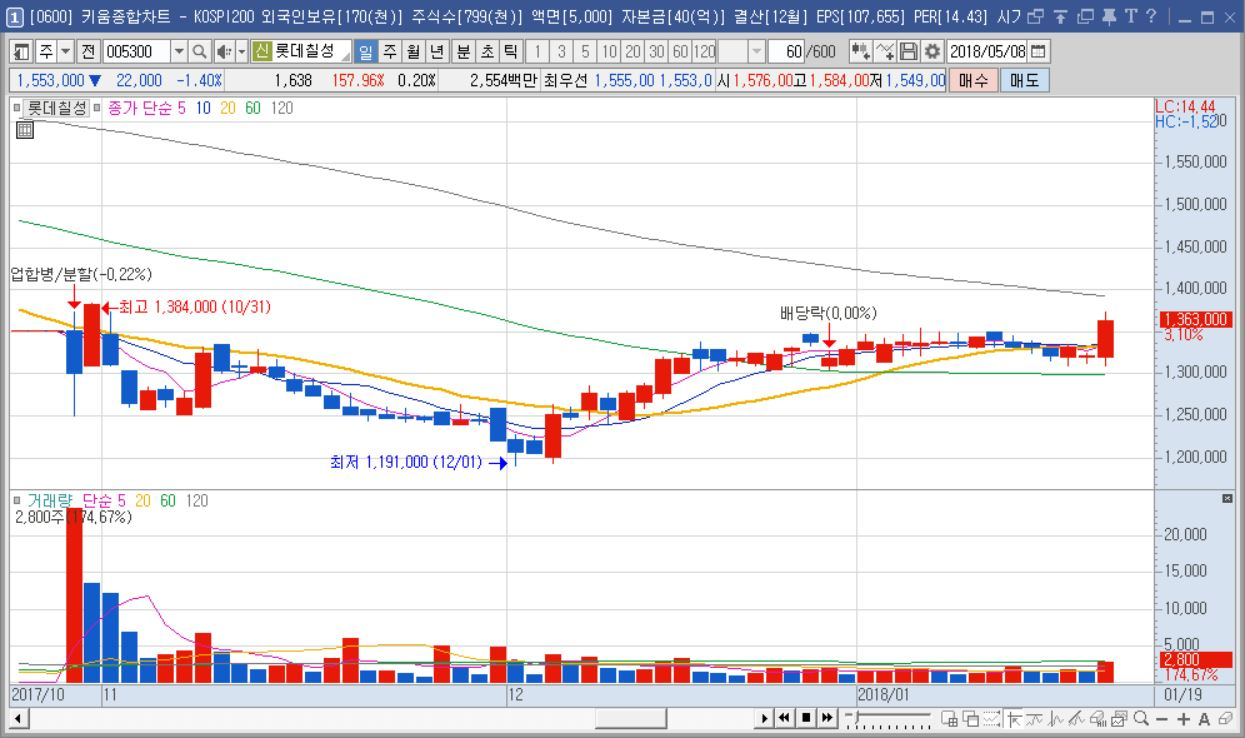up: (544, 299, 1117, 684)
